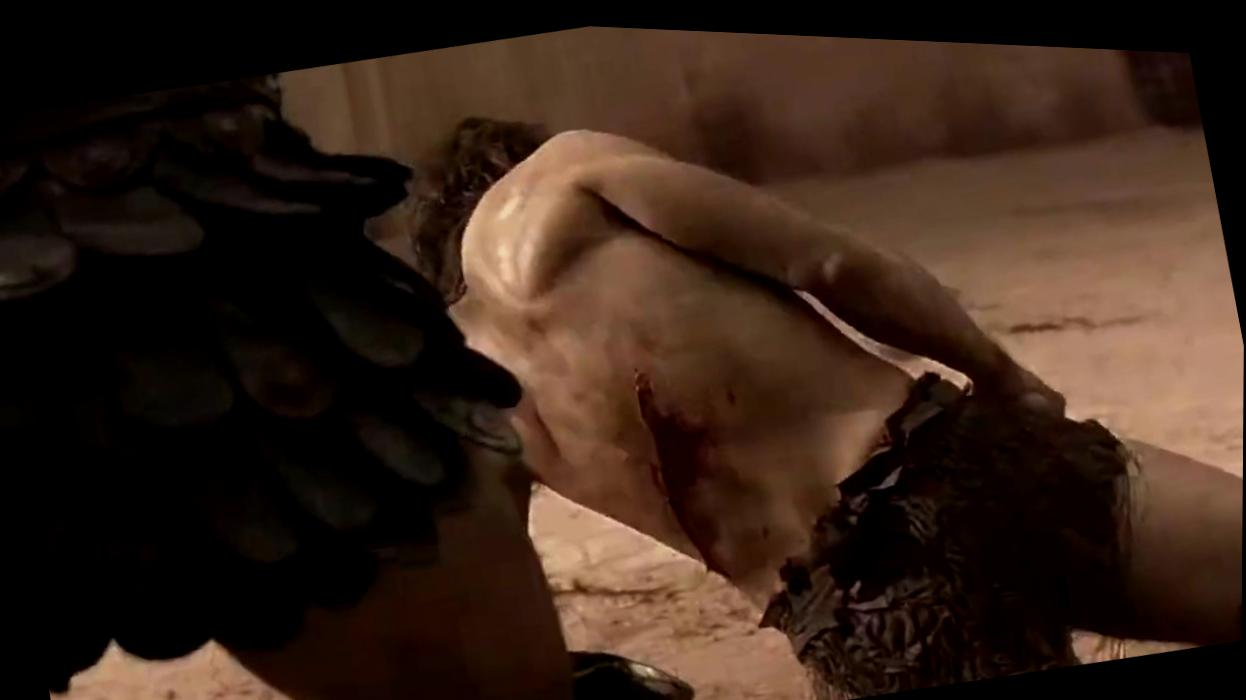Fire: (635, 366, 732, 569)
